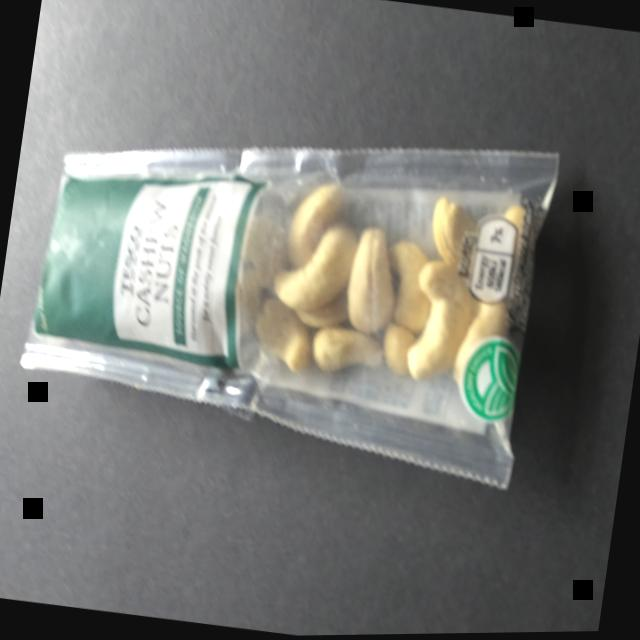Cashewnut: (0, 62, 579, 520)
